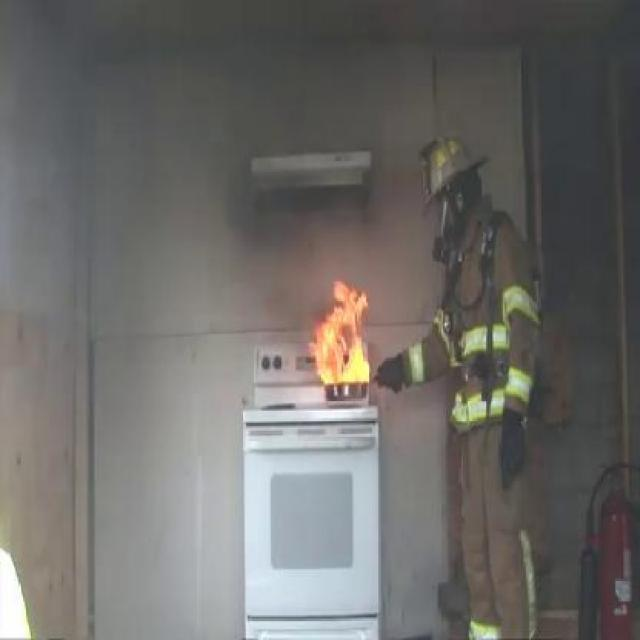fire: (304, 274, 374, 386)
